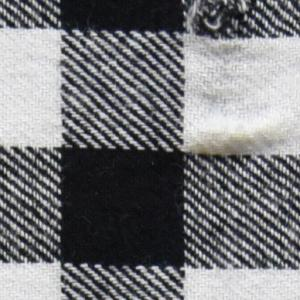Damage: (183, 1, 253, 54)
Wrinkle: (187, 116, 290, 164)
